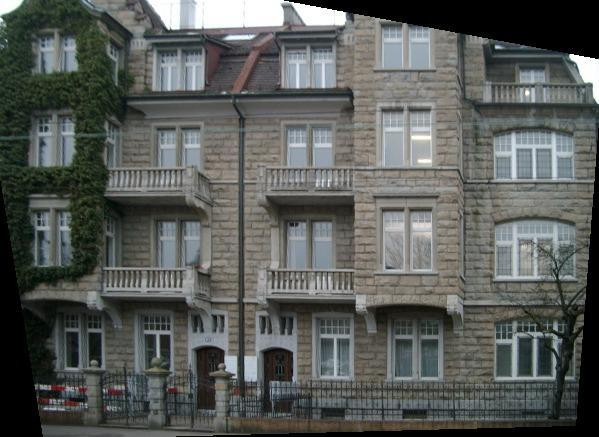window: (493, 316, 576, 382), (494, 216, 577, 280), (494, 126, 576, 181), (316, 318, 351, 380), (140, 314, 171, 378), (409, 208, 434, 275), (381, 207, 405, 274), (381, 108, 405, 168), (408, 108, 431, 168), (391, 318, 413, 380), (29, 208, 50, 267), (54, 208, 75, 267), (31, 116, 52, 175), (58, 115, 79, 174), (420, 317, 439, 380), (380, 22, 404, 68), (408, 23, 432, 69), (83, 313, 103, 368), (60, 314, 80, 369), (286, 219, 307, 269), (155, 218, 176, 267), (180, 220, 201, 269), (310, 220, 331, 269), (36, 33, 55, 87), (59, 32, 78, 86), (521, 66, 546, 103), (155, 127, 176, 170), (157, 50, 178, 92), (181, 49, 202, 91), (286, 46, 307, 88), (310, 46, 331, 88), (313, 125, 333, 168), (287, 125, 307, 167), (182, 127, 202, 169), (106, 212, 117, 271), (111, 38, 123, 87), (108, 119, 120, 168)
